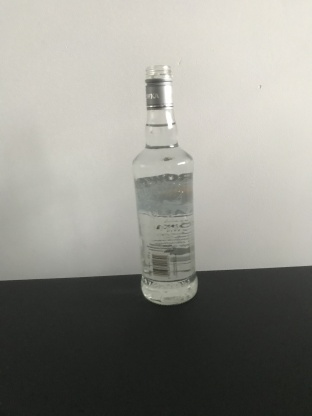nakretka: (143, 63, 175, 112)
